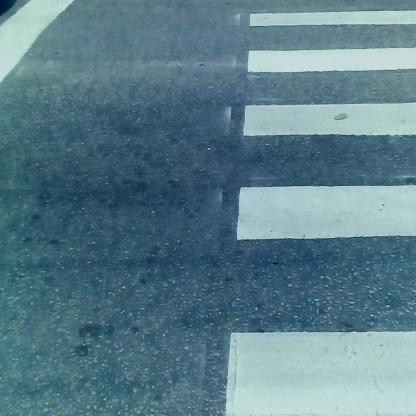crosswalk: (241, 13, 416, 416)
